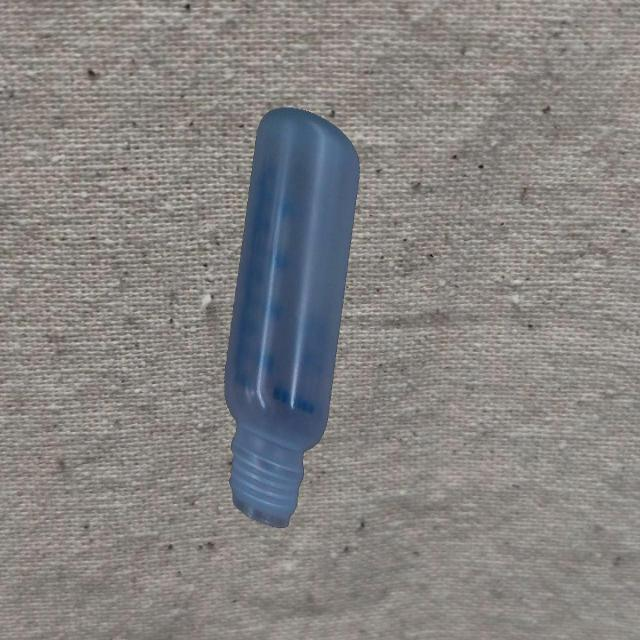bottle: (223, 106, 361, 532)
